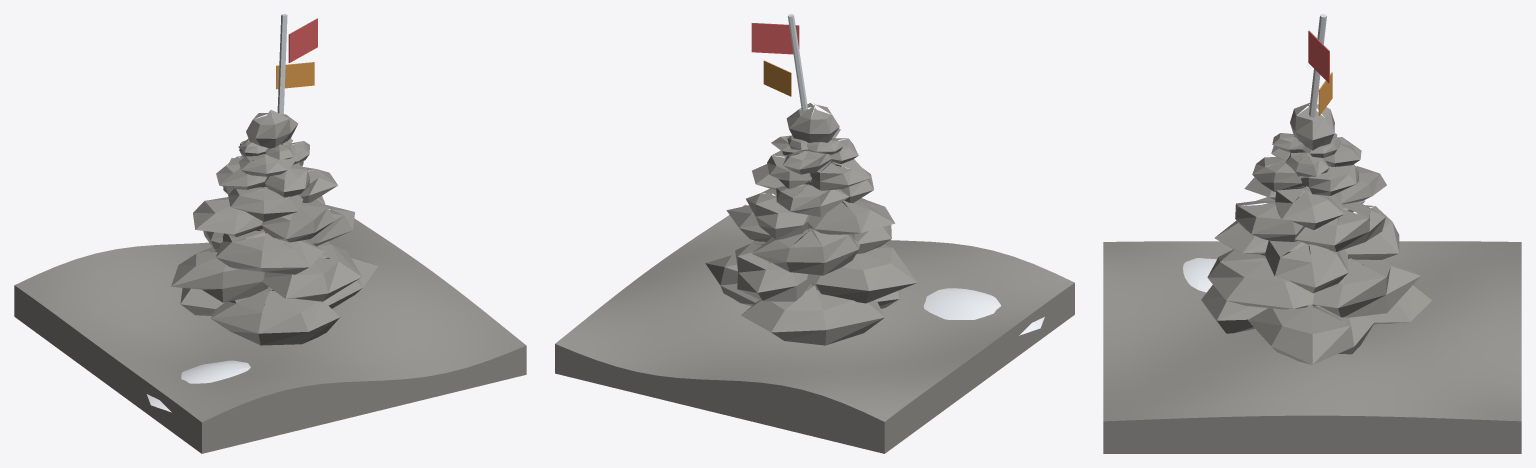
Rendered from mountaineering-and-summit-expedition-summit-cairn-3fee24da__18830.glb.
3 renders of one model, left to right at view 1: azimuth 30°, elevation 25°; view 2: azimuth 150°, elevation 25°; view 3: azimuth 270°, elevation 25°, orthographic. The views are drawn at different scales.
Visible parts, largest first — view 1: summit-cairn; view 2: summit-cairn; view 3: summit-cairn.
Part boxes in pixels (x1,y1,x2,y2): summit-cairn: (14,14,526,453); summit-cairn: (555,14,1074,453); summit-cairn: (1103,14,1521,453).
Size of the model in its own units: 1.95 by 1.81 by 1.9.
